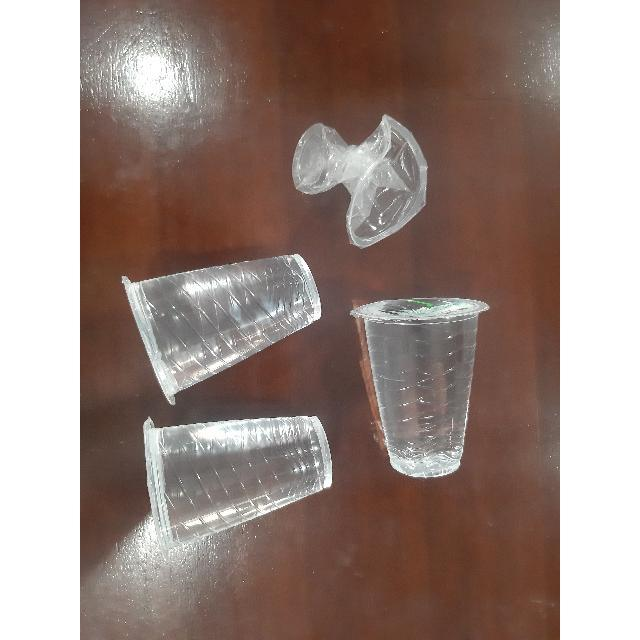Plastico descartable: (120, 254, 323, 406), (350, 297, 489, 482), (144, 416, 333, 540)
